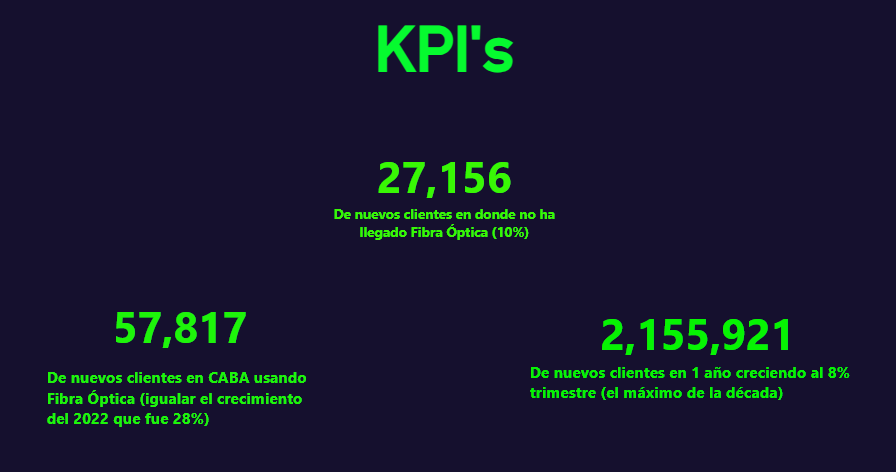

This screenshot's page, from the dashboard's own definition file:
{"tool":"powerbi","page":{"name":"KPI","canvas":[1280,720],"ordinal":6},"visuals":[{"type":"textbox","box":[190.1,36,898.6,118.1],"z":0},{"type":"textbox","box":[670.2,320.8,162.9,75.6],"z":1000},{"type":"textbox","box":[1072.8,616.3,191.5,93.6],"z":2000},{"type":"textbox","box":[481,221.8,316.8,197.3],"z":5002},{"type":"textbox","box":[797.8,437.8,403.2,214.6],"z":5003},{"type":"textbox","box":[86.4,427.7,377.3,236.2],"z":5004}]}

Visuals, with their boxes on the page's 1280x720 design canvas (x1, y1, x2, y2). These are canvas units, not pixel positions in the 896x472 screenshot, which may show the page scaled, cropped or inside an application window:
textbox: 190:36:1089:154
textbox: 670:321:833:396
textbox: 1073:616:1264:710
textbox: 481:222:798:419
textbox: 798:438:1201:652
textbox: 86:428:464:664
